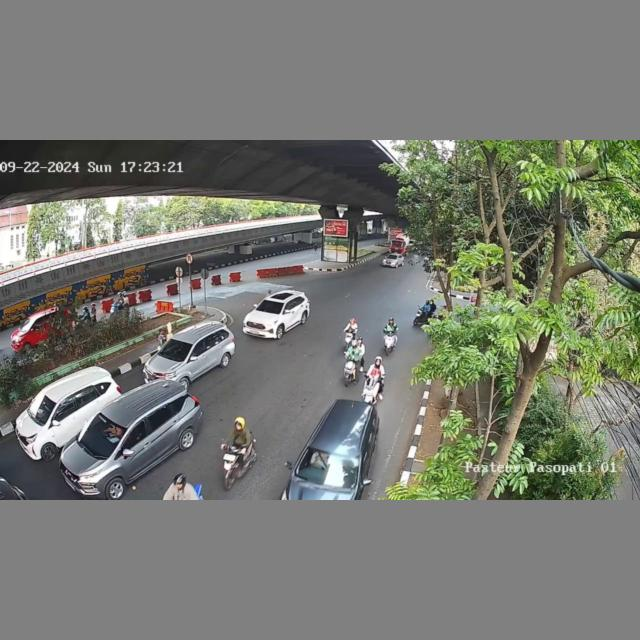windshield: (294, 448, 360, 492), (82, 414, 129, 460), (26, 392, 54, 424), (162, 339, 190, 362), (256, 300, 287, 314)
